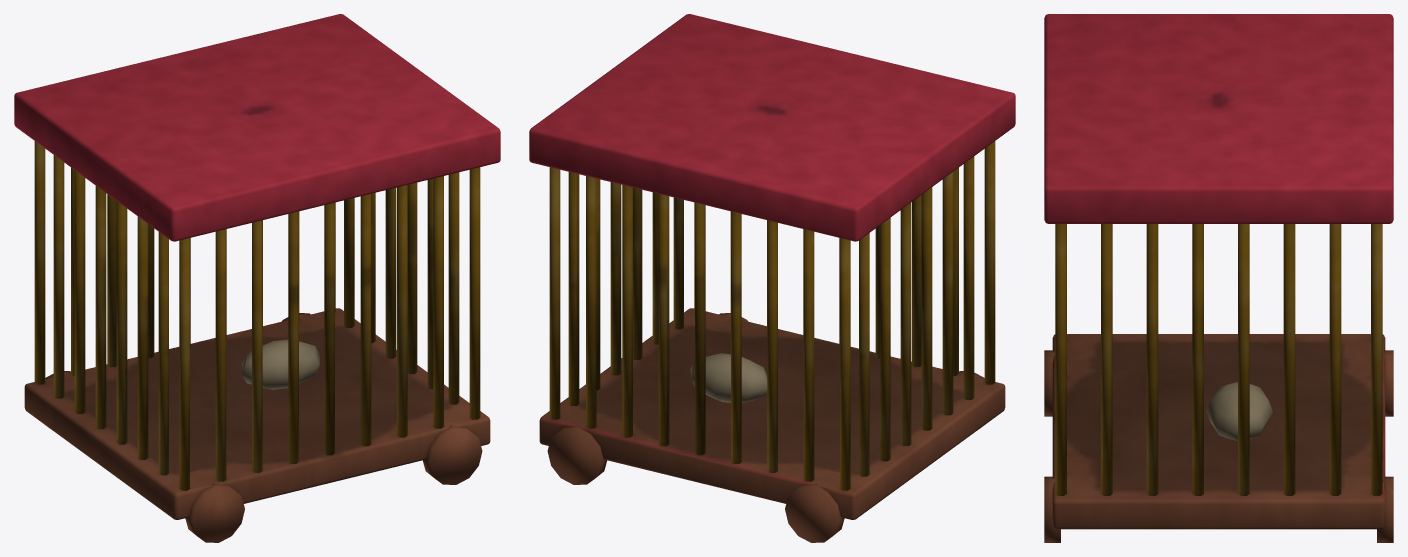
File: circus_cage.obj
The picture shows the model from 3 angles, left to right: view 1: azimuth 30°, elevation 25°; view 2: azimuth 150°, elevation 25°; view 3: azimuth 270°, elevation 25°; orthographic projection. The views are drawn at different scales.
Visible parts, largest first — view 1: part2, part1, part0, part3; view 2: part2, part1, part0, part3; view 3: part2, part0, part1, part3.
Part boxes in pixels (x1=…): part2: x1=14, y1=14, x2=500, y2=241; part1: x1=34, y1=141, x2=480, y2=490; part0: x1=24, y1=308, x2=490, y2=542; part3: x1=241, y1=339, x2=320, y2=389; part2: x1=529, y1=14, x2=1015, y2=241; part1: x1=549, y1=141, x2=995, y2=490; part0: x1=539, y1=308, x2=1005, y2=542; part3: x1=690, y1=353, x2=767, y2=402; part2: x1=1044, y1=14, x2=1393, y2=223; part0: x1=1044, y1=334, x2=1393, y2=542; part1: x1=1055, y1=224, x2=1382, y2=495; part3: x1=1206, y1=382, x2=1272, y2=440.
Bounding box in the file's own units: 1 × 1 × 0.84.
